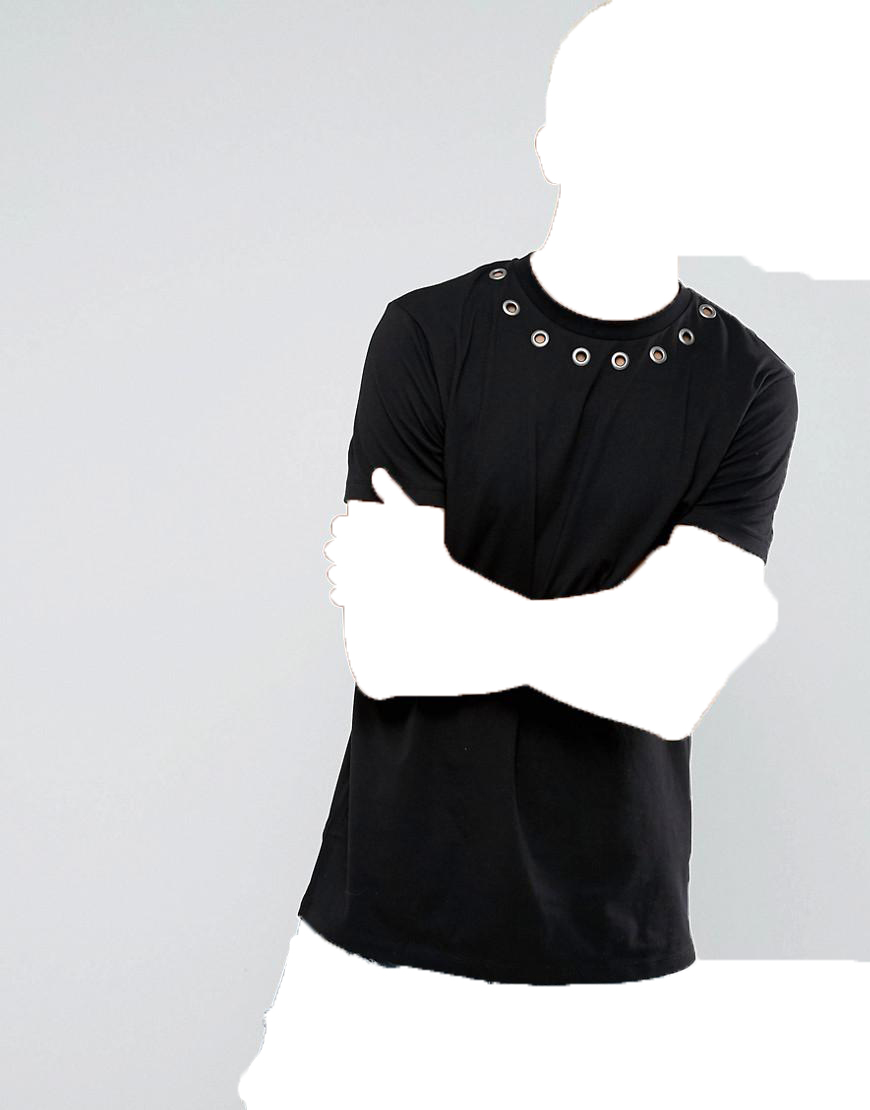teeshirt: (293, 239, 808, 988)
